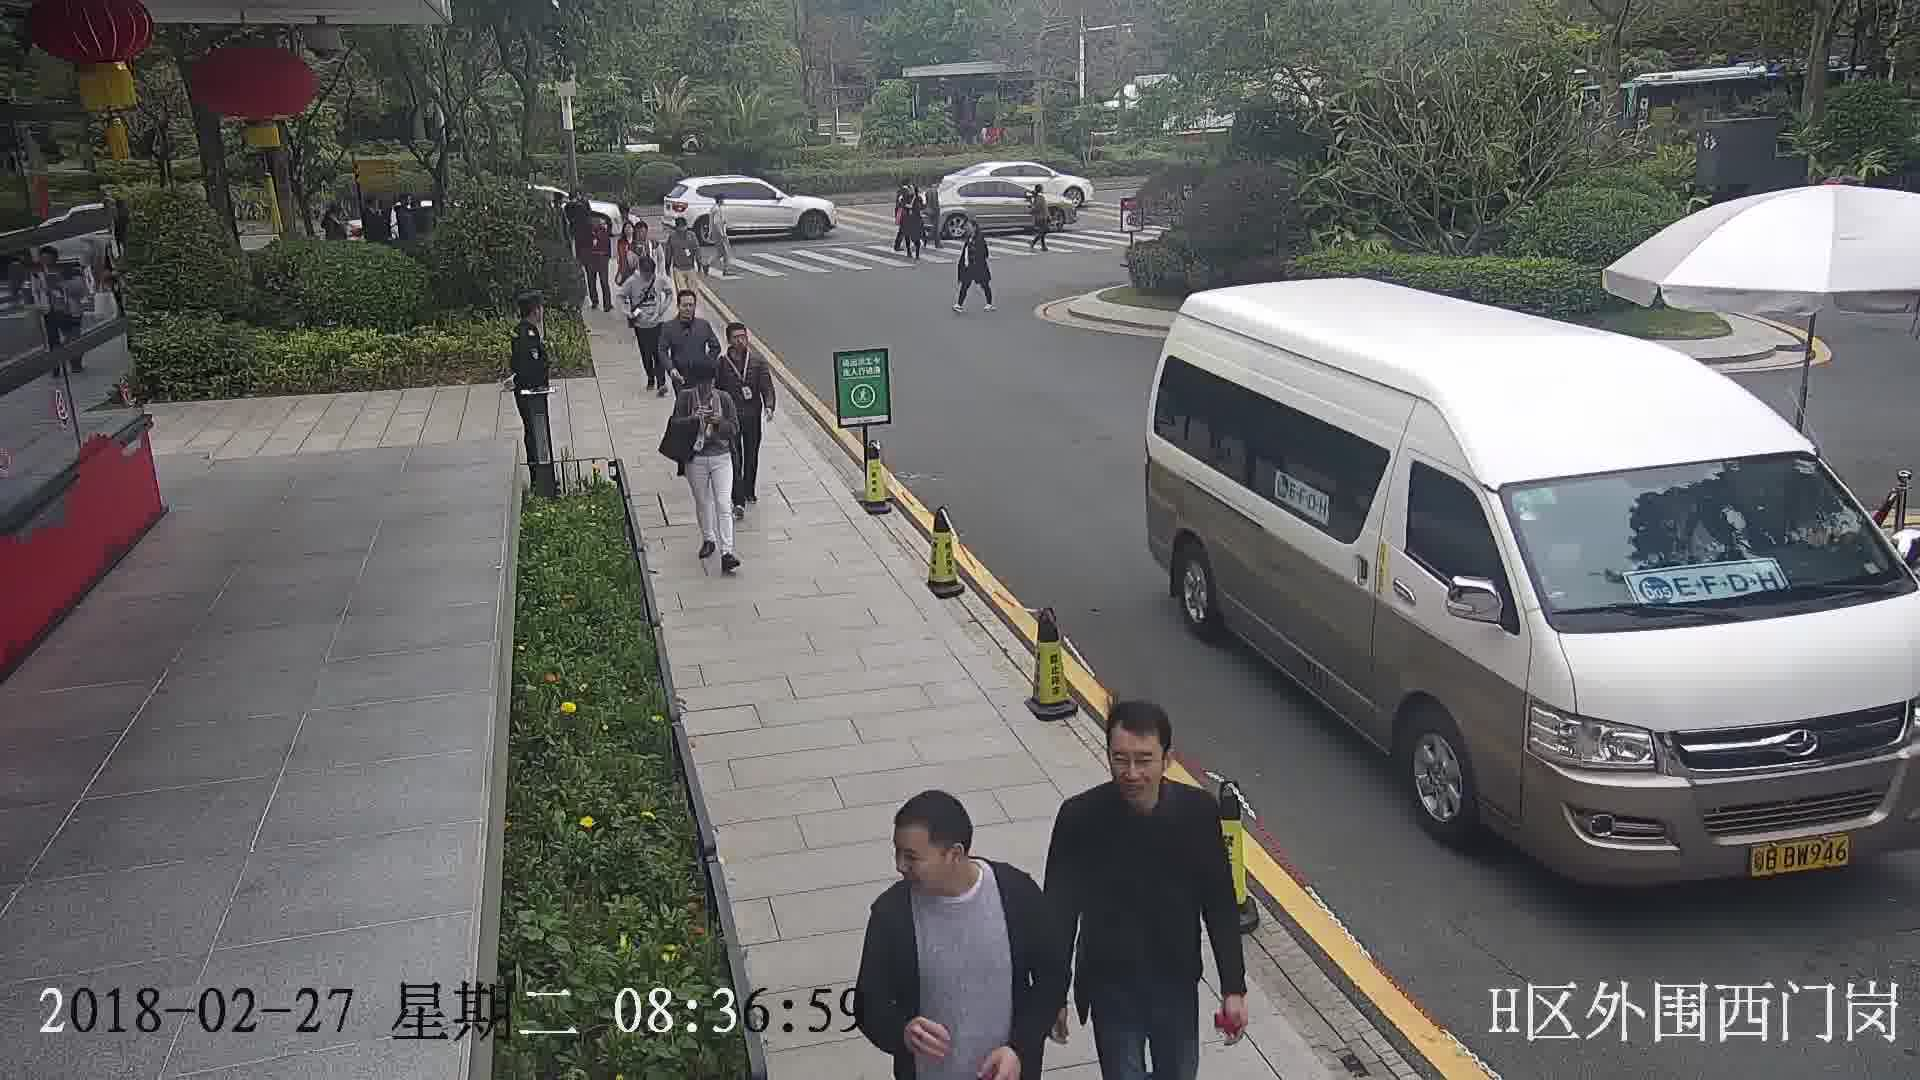face: (1097, 725, 1174, 802), (886, 824, 959, 897)
person: (859, 789, 1051, 949), (1055, 700, 1226, 847), (674, 355, 733, 410), (714, 319, 766, 374), (665, 288, 716, 337), (511, 291, 551, 345), (623, 252, 669, 292), (955, 217, 988, 245), (894, 175, 919, 206), (627, 221, 653, 249), (671, 214, 693, 242), (565, 187, 588, 213), (582, 210, 605, 236), (706, 192, 728, 214), (1028, 182, 1047, 205), (926, 175, 944, 195)
